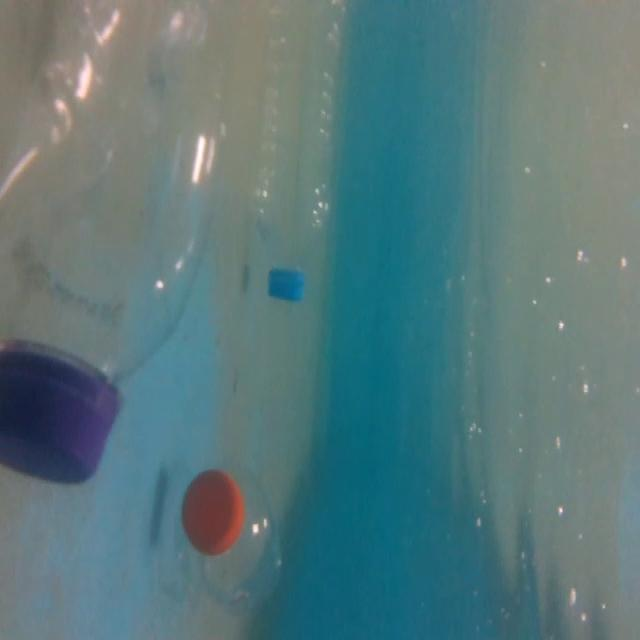plastic bottle: (3, 2, 210, 490), (239, 1, 354, 300), (170, 459, 307, 615)
